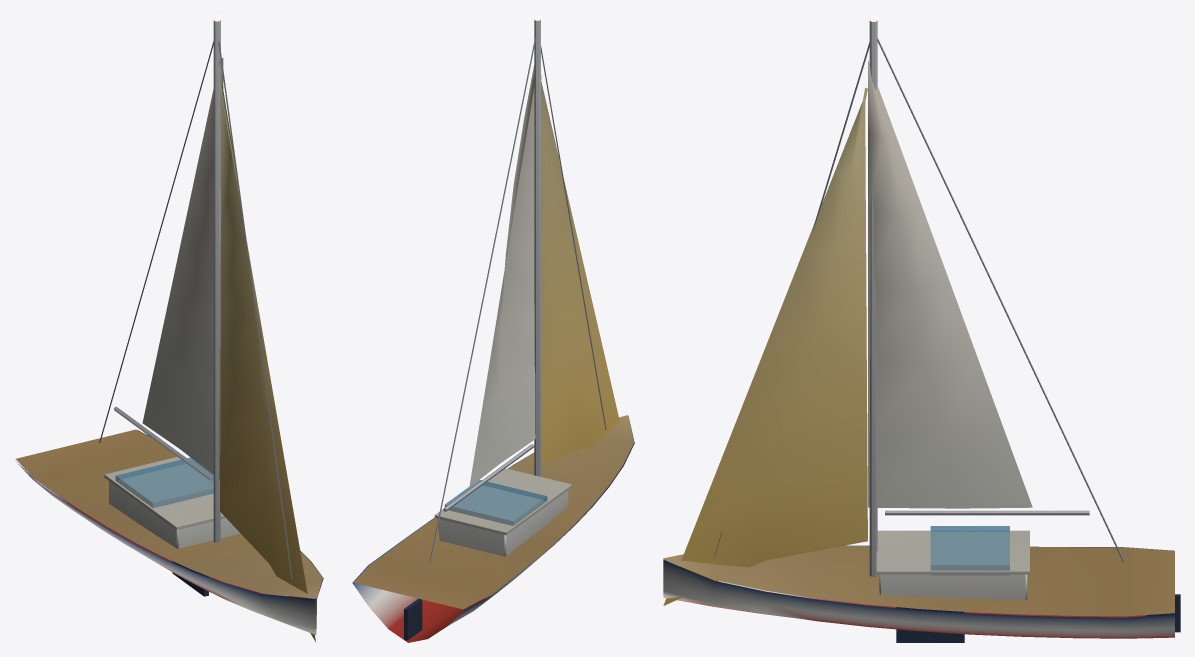
The model's file is velero.glb.
3 views of the same model, side by side, from view 1: azimuth 30°, elevation 25°; view 2: azimuth 150°, elevation 25°; view 3: azimuth 270°, elevation 25° (orthographic). The views are drawn at different scales.
Visible parts, largest first — view 1: velero; view 2: velero; view 3: velero.
Part boxes in pixels (x1,y1,x2,y2): velero: [15, 14, 323, 641]; velero: [352, 14, 634, 642]; velero: [663, 14, 1180, 642].
Bounding box in the file's own units: 2.94 × 12.18 × 9.1.
